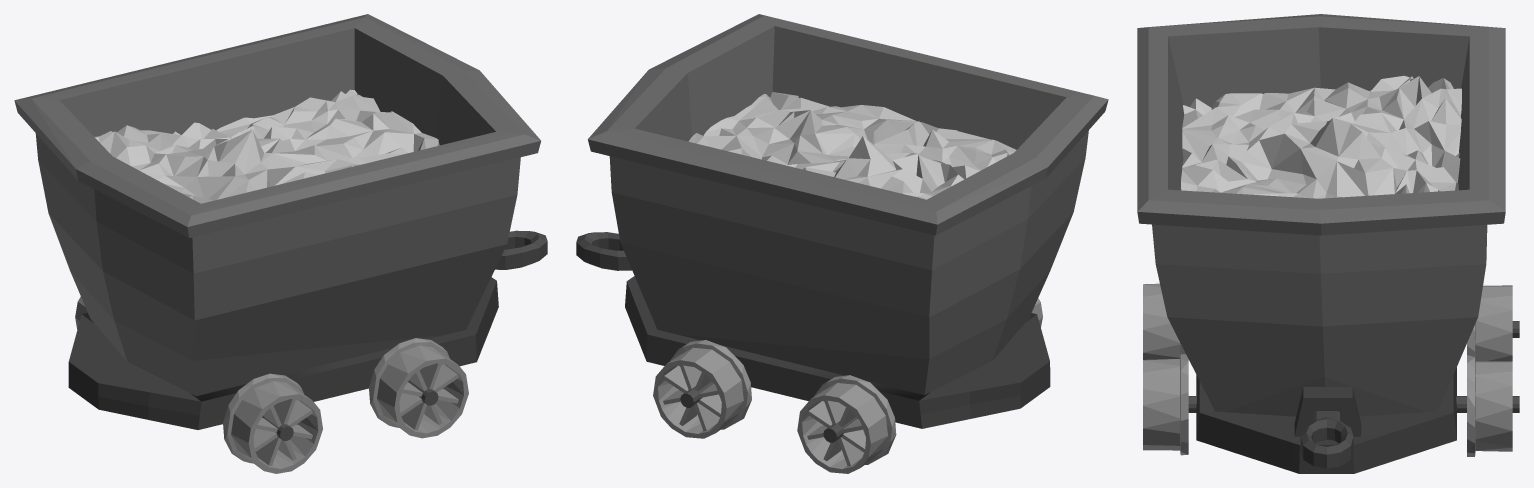
Rendered from mine_cart.glb.
The picture shows the model from 3 angles, left to right: view 1: azimuth 30°, elevation 25°; view 2: azimuth 150°, elevation 25°; view 3: azimuth 270°, elevation 25°; orthographic projection. The views are drawn at different scales.
Visible parts, largest first — view 1: PP_Mine_Cart_01, PP_Mine_Cart_Charge_Stone, PP_Mine_Cart_01_Wheels_F, PP_Mine_Cart_01_Wheels_R; view 2: PP_Mine_Cart_01, PP_Mine_Cart_Charge_Stone, PP_Mine_Cart_01_Wheels_F, PP_Mine_Cart_01_Wheels_R; view 3: PP_Mine_Cart_01, PP_Mine_Cart_Charge_Stone, PP_Mine_Cart_01_Wheels_R, PP_Mine_Cart_01_Wheels_F.
Part boxes in pixels (left/top/right/bottom): PP_Mine_Cart_01: left=14, top=14, right=547, bottom=440; PP_Mine_Cart_Charge_Stone: left=94, top=89, right=439, bottom=203; PP_Mine_Cart_01_Wheels_F: left=75, top=296, right=322, bottom=473; PP_Mine_Cart_01_Wheels_R: left=369, top=338, right=468, bottom=438; PP_Mine_Cart_01: left=576, top=14, right=1108, bottom=442; PP_Mine_Cart_Charge_Stone: left=688, top=92, right=1016, bottom=199; PP_Mine_Cart_01_Wheels_F: left=797, top=298, right=1042, bottom=473; PP_Mine_Cart_01_Wheels_R: left=653, top=340, right=751, bottom=438; PP_Mine_Cart_01: left=1137, top=14, right=1519, bottom=473; PP_Mine_Cart_Charge_Stone: left=1181, top=75, right=1461, bottom=198; PP_Mine_Cart_01_Wheels_R: left=1143, top=354, right=1512, bottom=456; PP_Mine_Cart_01_Wheels_F: left=1143, top=283, right=1512, bottom=361.
Size of the model in its own units: 4.18 by 2.4 by 2.75.
1 material, 1 textured.
